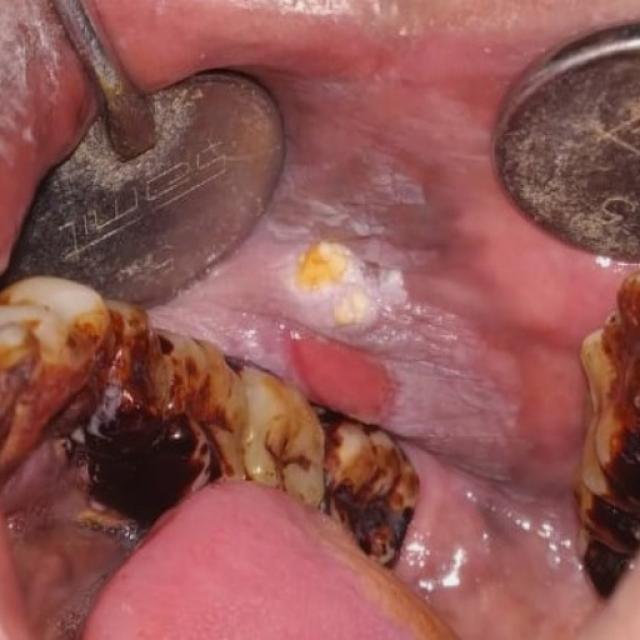leukoplakia-detection: (156, 144, 536, 483)
processing_area: (85, 3, 620, 639)
